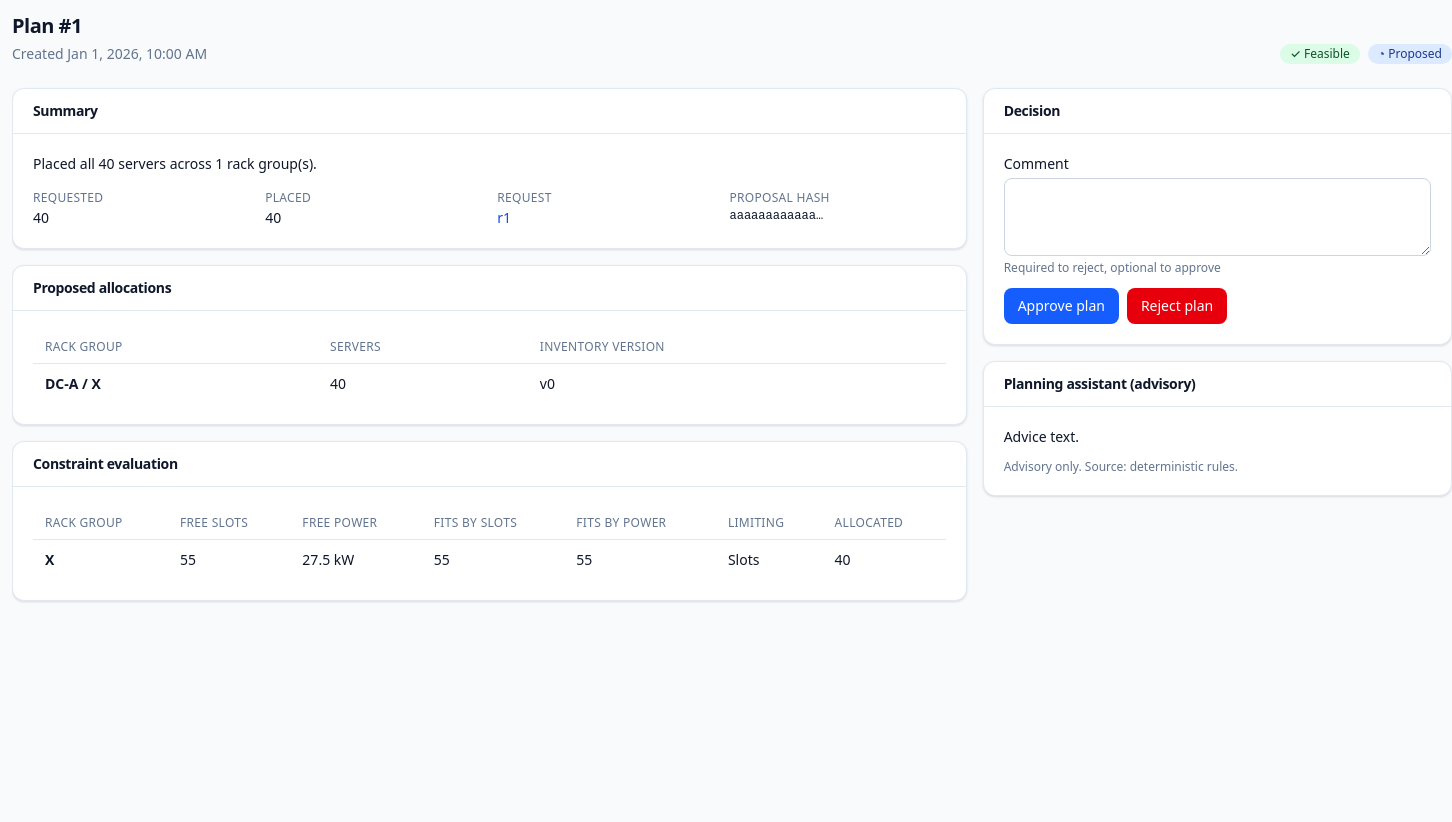
Test: PlanDetailPage › requires a comment to reject and sends none until provided
The width and height of the screenshot is (1452, 822).
Click the button "Reject plan" at (1177, 306), box [1127, 288, 1227, 324]
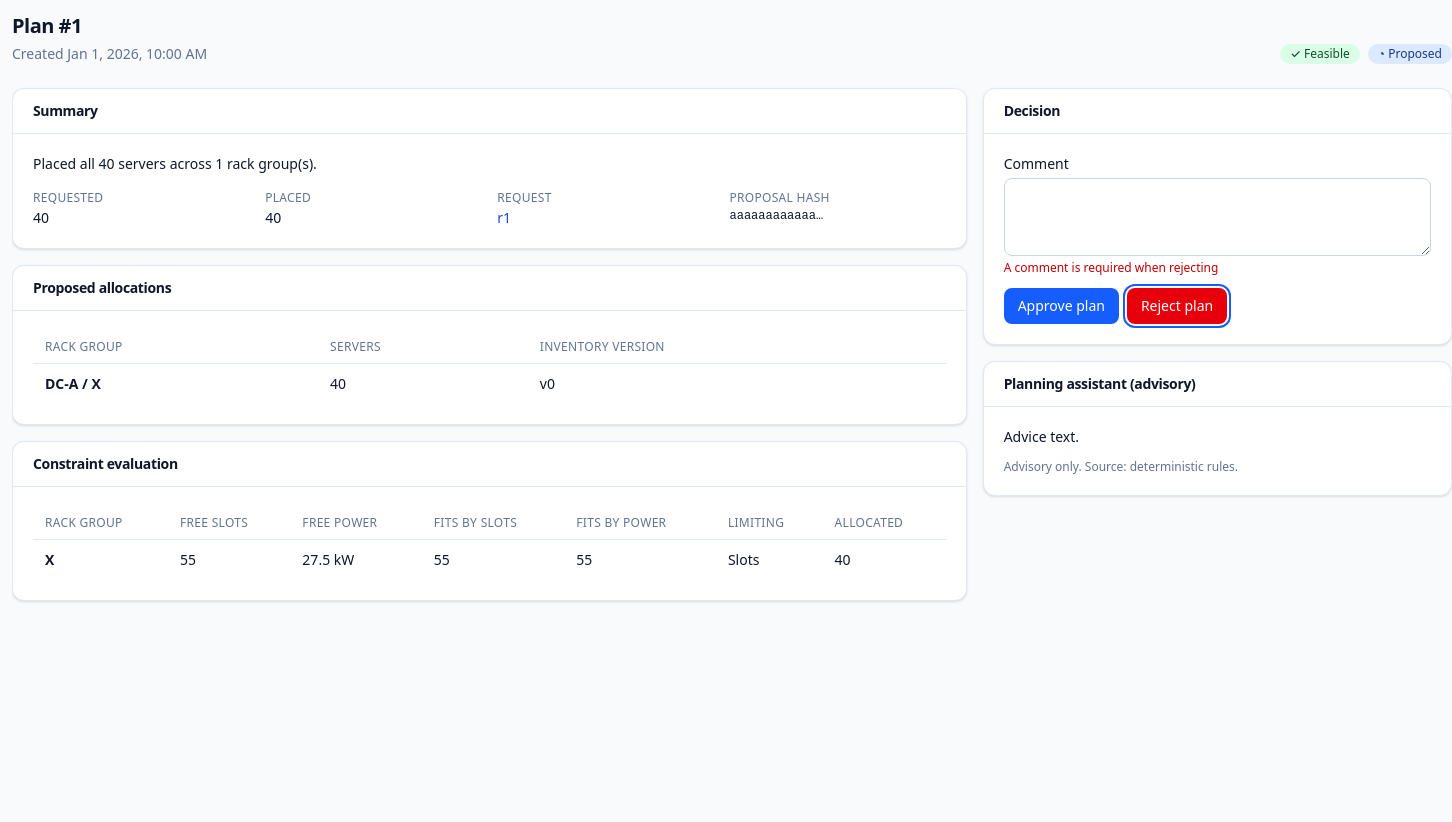
Now the text "A comment is required when rejecting" is shown, box [1004, 259, 1218, 276]
Type "Over budget" into the text box labelled "Comment" at (1217, 217), box [1004, 178, 1431, 256]
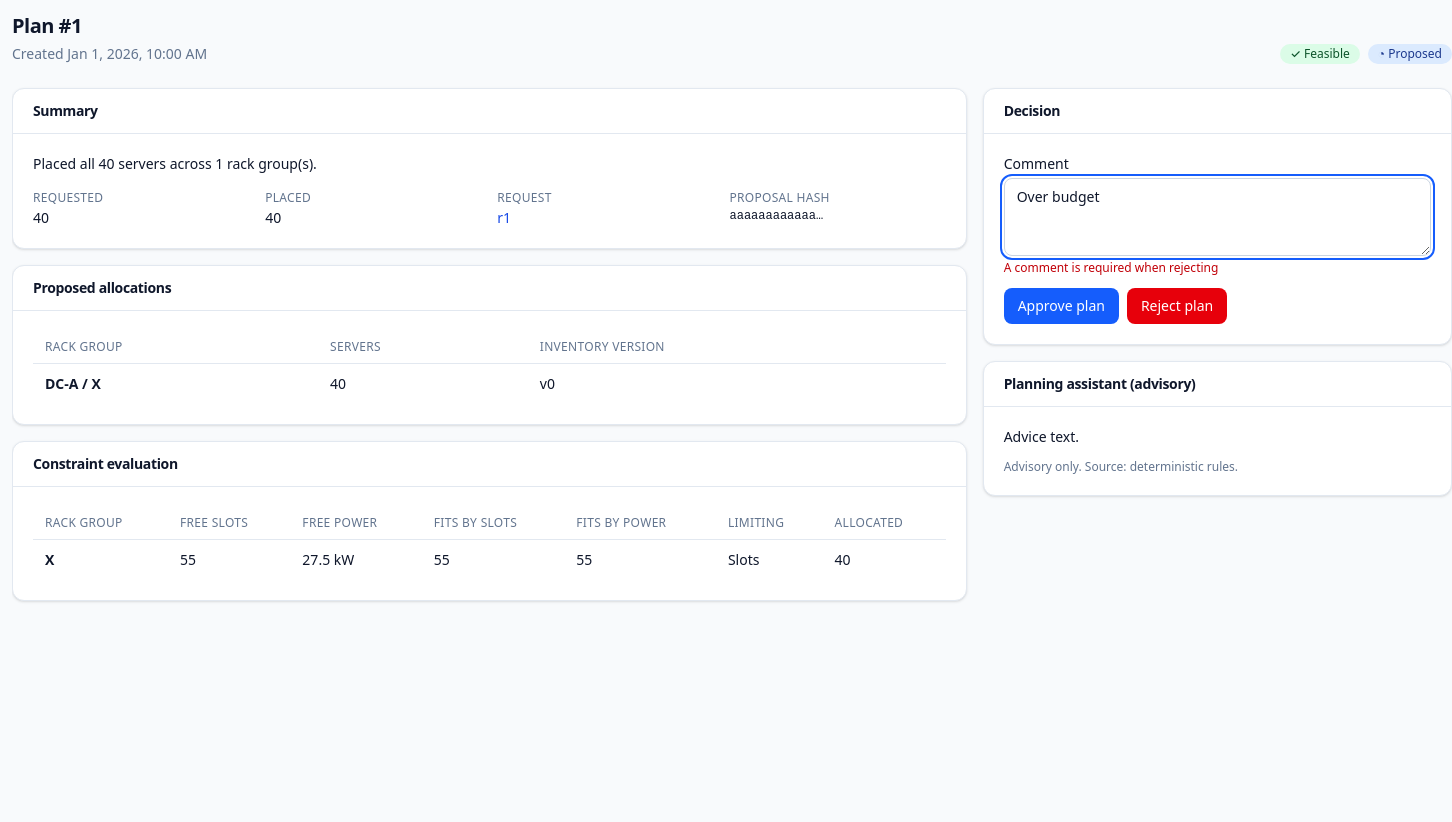
Click the button "Reject plan" at (1177, 306), box [1127, 288, 1227, 324]
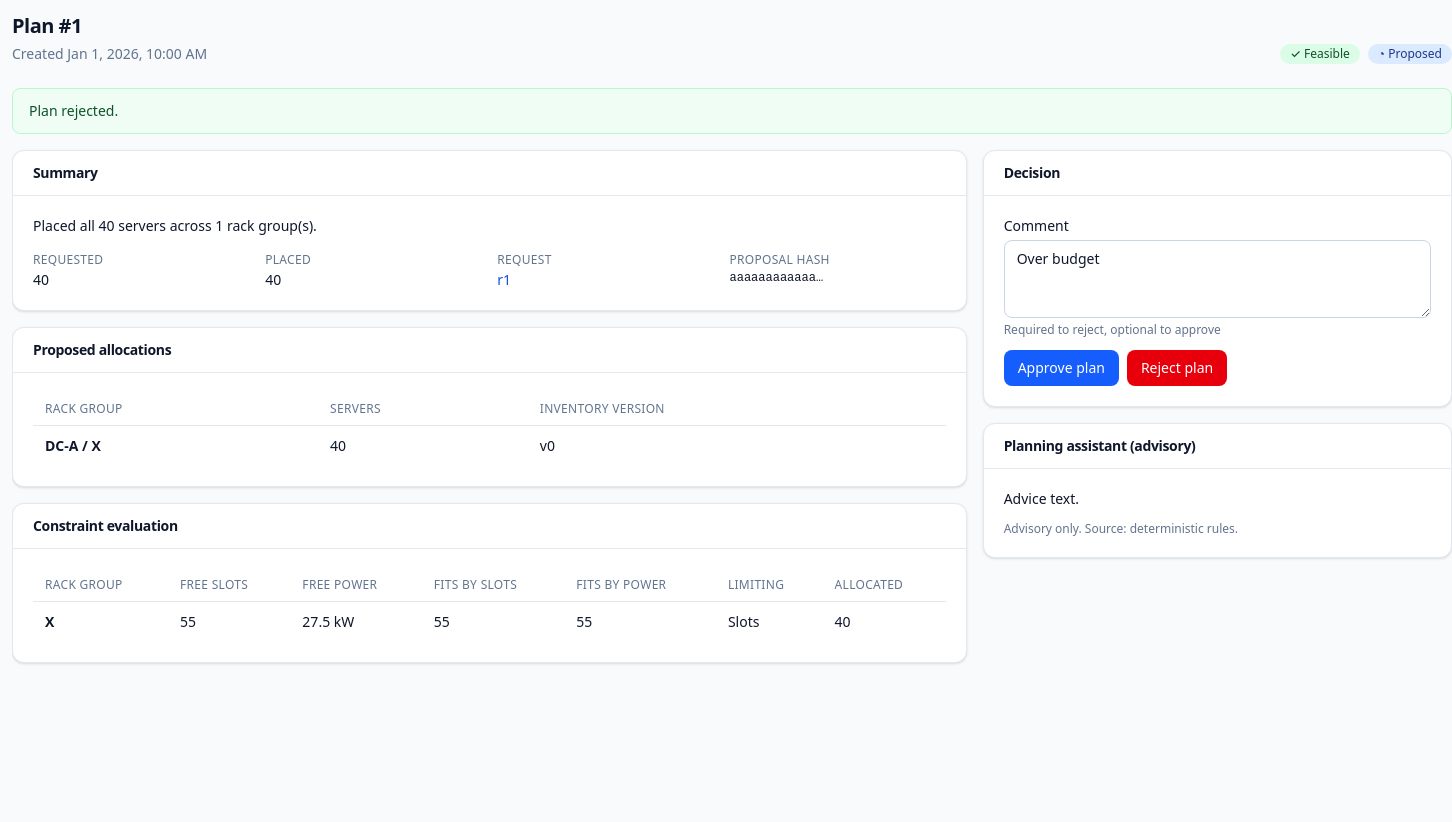
Now the text "Plan rejected." is shown, box [12, 88, 1451, 134]
